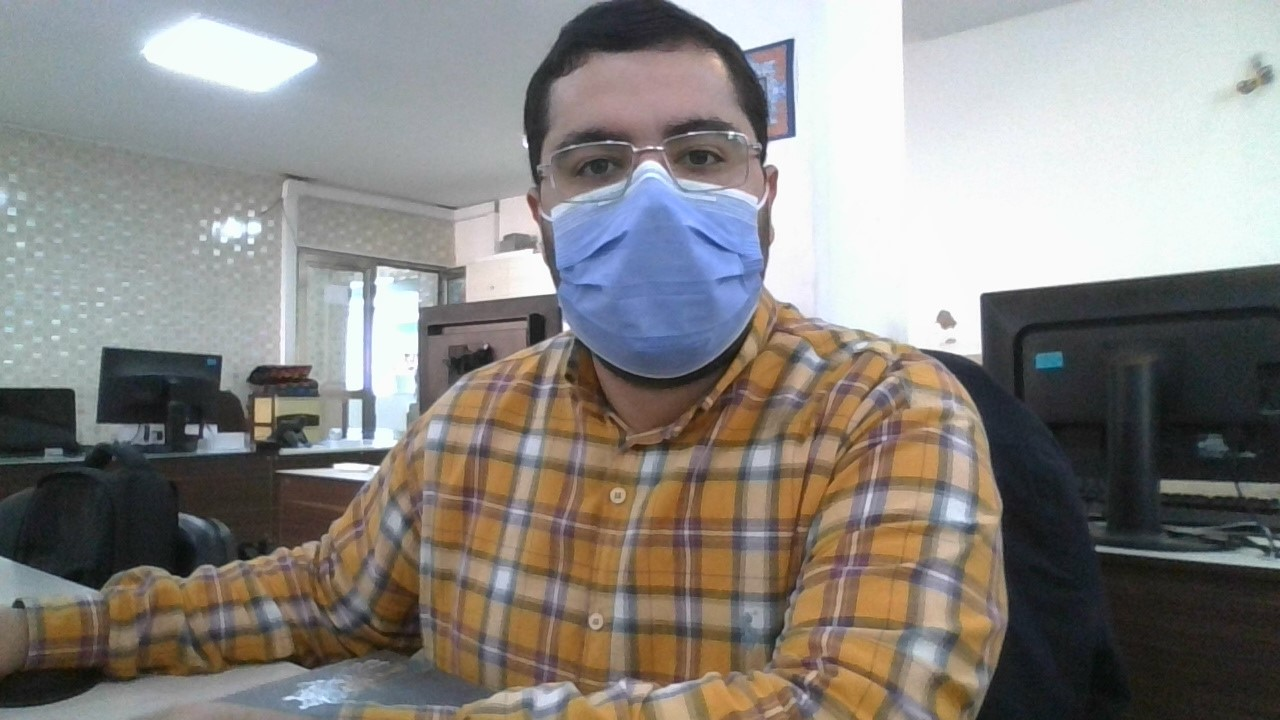Mask: (535, 161, 769, 382)
